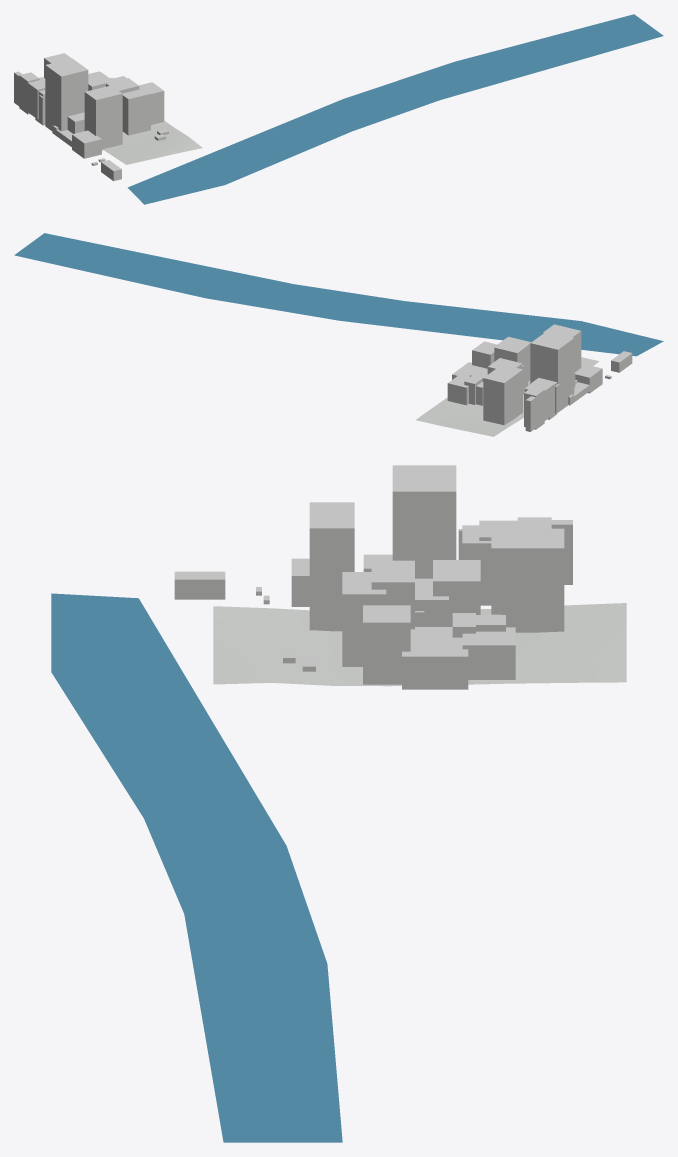
File: tile-c00-r03-lod0-analysis.glb
3 renders of one model, top to bottom at view 1: azimuth 30°, elevation 25°; view 2: azimuth 150°, elevation 25°; view 3: azimuth 270°, elevation 25°, orthographic. The views are drawn at different scales.
Visible parts, largest first — view 1: tile-c00-r03-lod0-analysis; view 2: tile-c00-r03-lod0-analysis; view 3: tile-c00-r03-lod0-analysis.
Boxes of the visible parts, x1,y1,x2,y2 form: tile-c00-r03-lod0-analysis: (14,14,663,204); tile-c00-r03-lod0-analysis: (14,233,663,436); tile-c00-r03-lod0-analysis: (51,465,626,1142).
Size of the model in its own units: 880 by 97.4 by 390.
